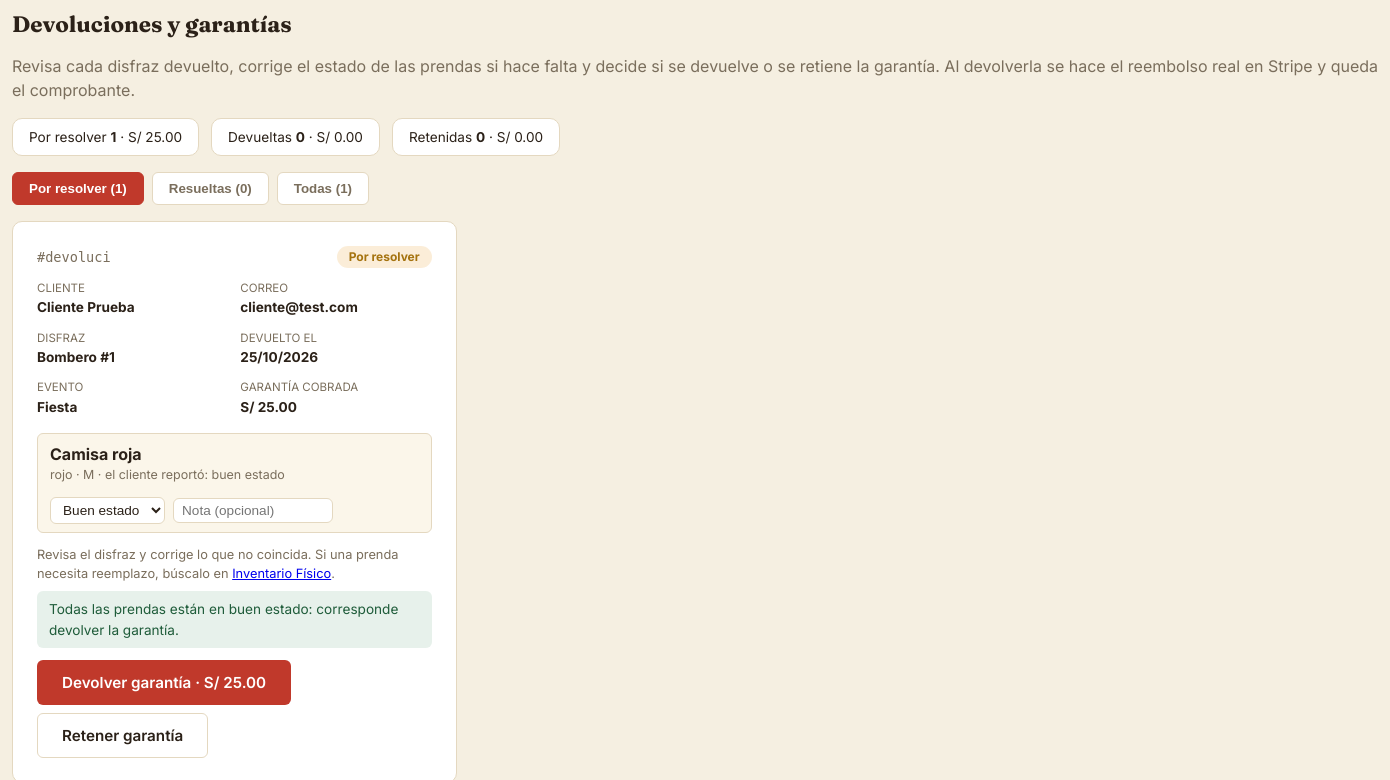
it: Pruebas funcionales - Devoluciones › PF-FE-59: muestra el mensaje del backend cuando falla la resolución de la garantía
Step 1. Click the button "Devolver garantía · S/ 25.00" → point(164, 682), box [37,660,291,705]
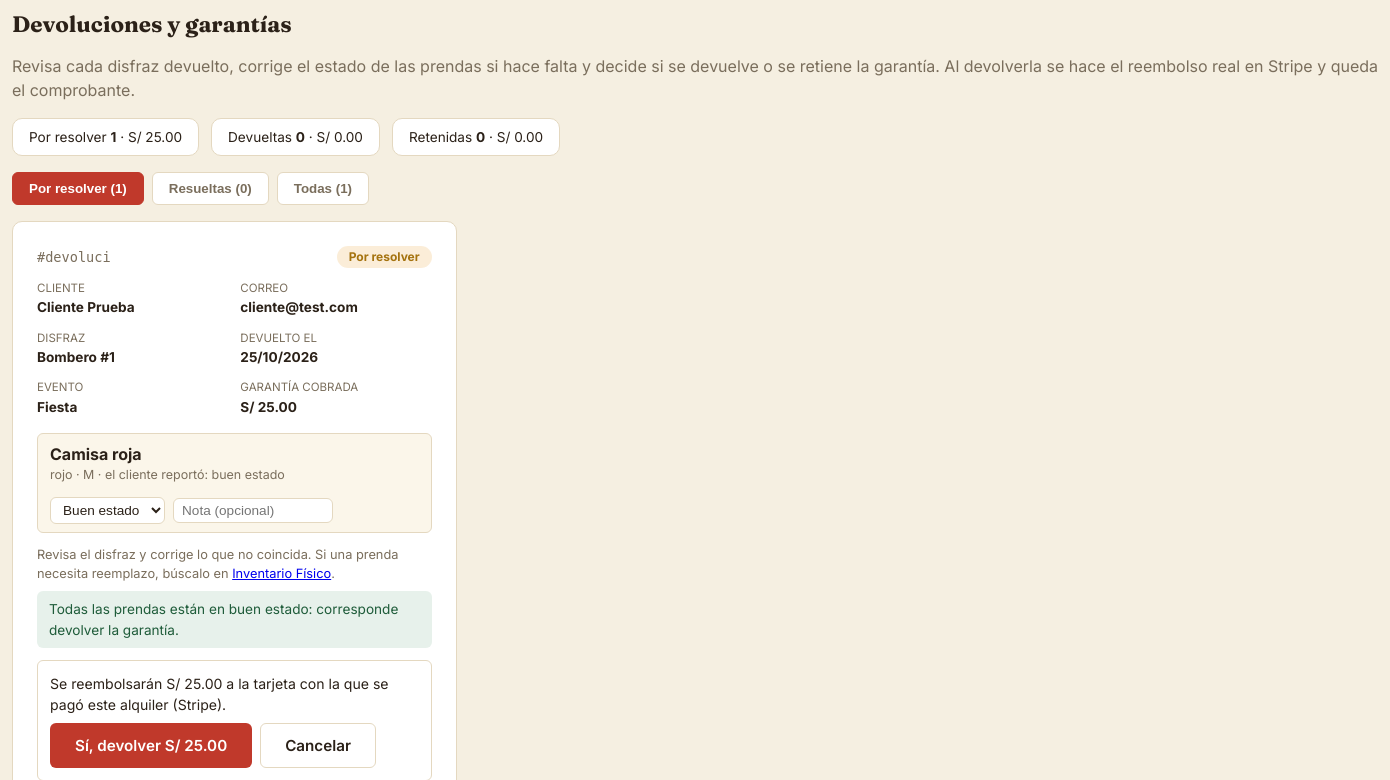
Step 2. Click the button "Sí, devolver S/ 25.00" → point(151, 746), box [50,723,252,768]
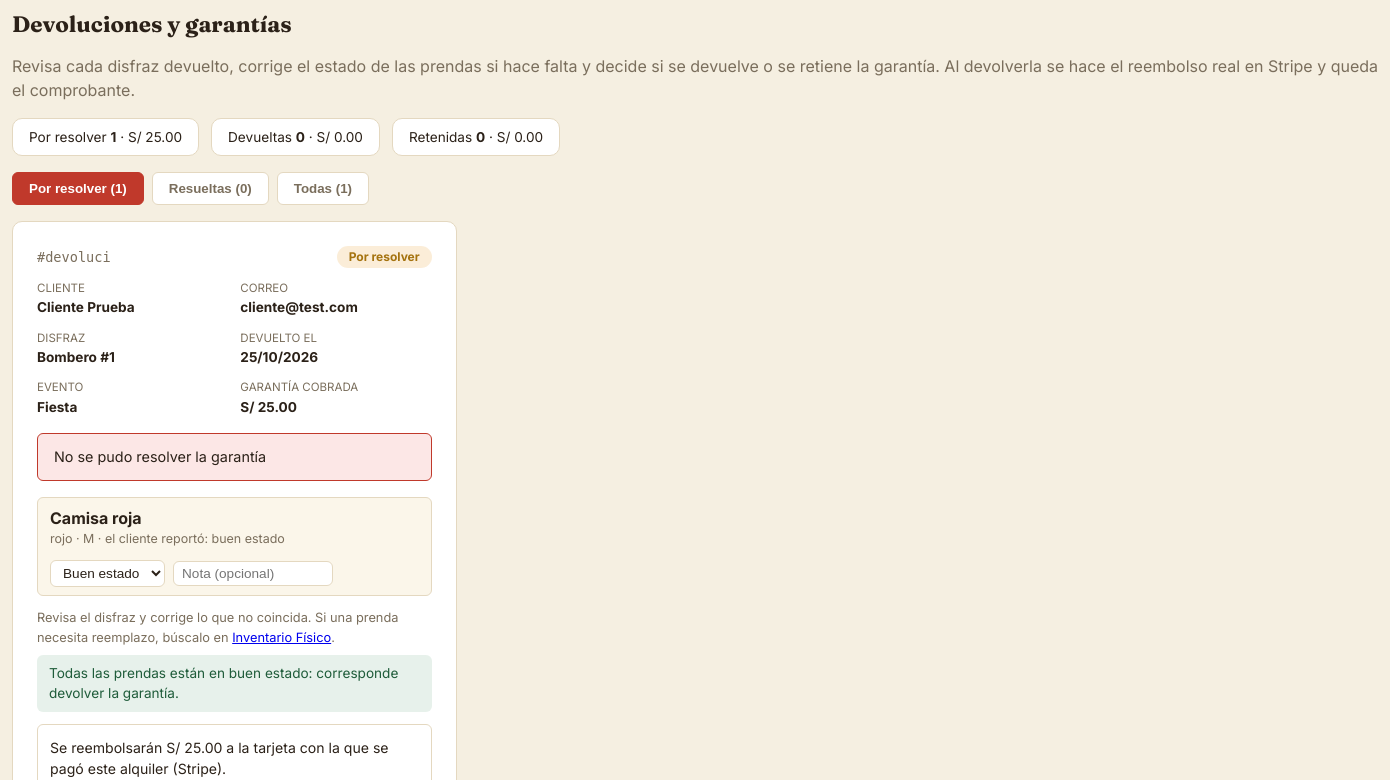
Now the message reads "No se pudo resolver la garantía", box [54,448,266,465]
